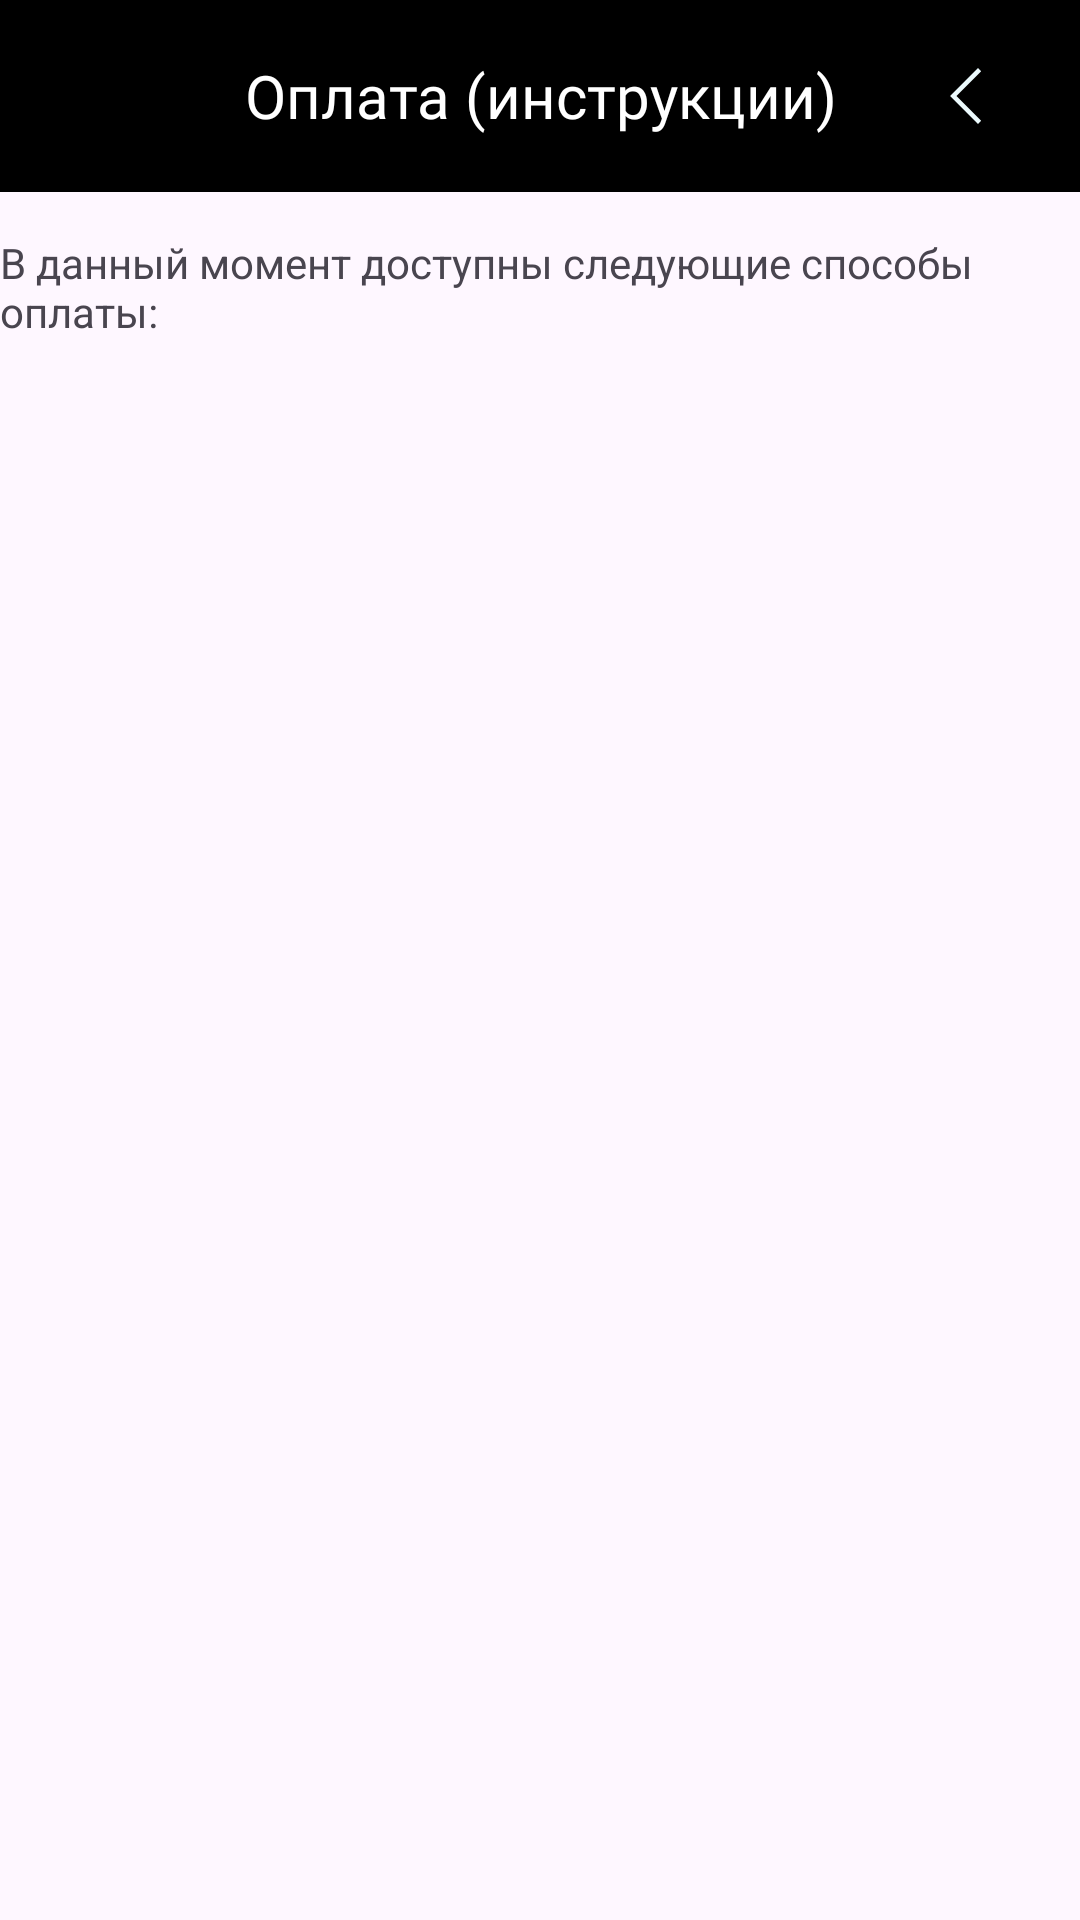

Where to tap for icons on this 1080*1920 app screen, as [x,y]:
back: [965,96]
